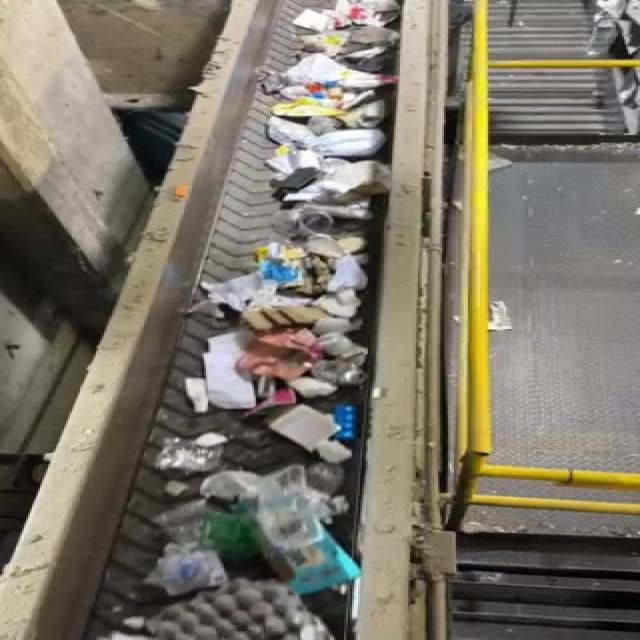paper: (267, 407, 346, 465)
pp: (250, 475, 351, 589), (143, 532, 230, 596), (157, 428, 236, 479), (326, 402, 366, 447)
